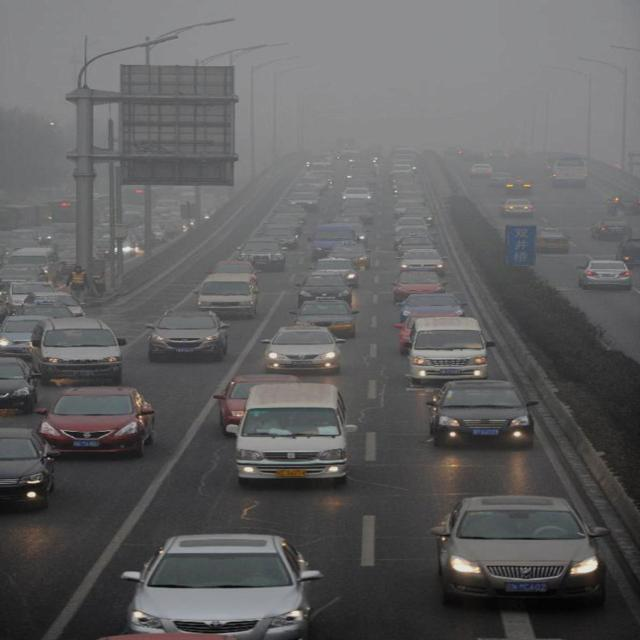Car: (120, 533, 322, 639), (427, 495, 608, 612), (36, 386, 156, 458), (423, 379, 534, 448), (30, 318, 129, 385), (212, 374, 304, 434), (0, 428, 59, 509), (146, 310, 232, 363), (262, 323, 349, 372), (395, 308, 470, 350), (193, 272, 260, 319), (287, 300, 359, 338), (0, 314, 58, 361), (396, 292, 466, 324), (391, 269, 449, 301), (297, 270, 358, 300), (577, 258, 632, 290), (308, 227, 359, 260), (1, 280, 61, 308), (235, 239, 287, 271), (19, 291, 85, 316), (324, 243, 370, 273), (397, 248, 446, 273), (0, 264, 46, 290), (208, 260, 257, 281), (394, 235, 436, 259), (535, 228, 571, 254), (591, 219, 632, 241), (393, 216, 431, 237), (615, 237, 640, 266), (500, 198, 536, 218), (340, 186, 372, 202), (503, 178, 533, 194), (487, 172, 514, 188), (468, 163, 494, 177)
Van: (232, 382, 354, 482)
